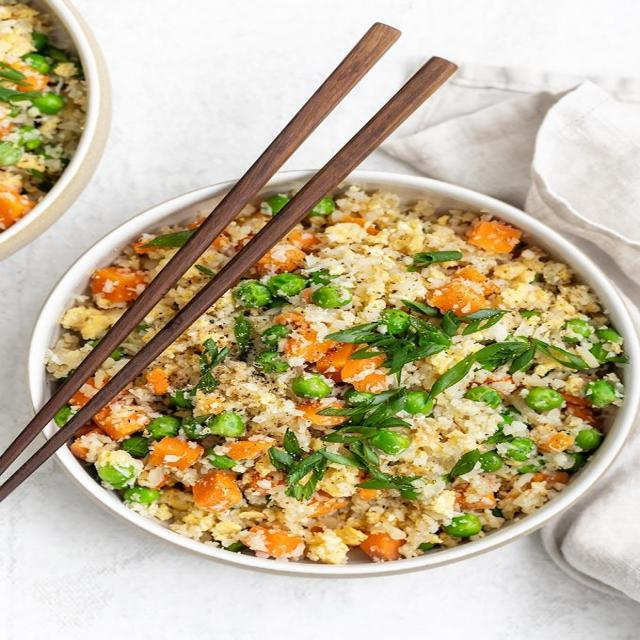Nasi Goreng: (43, 179, 627, 565)
